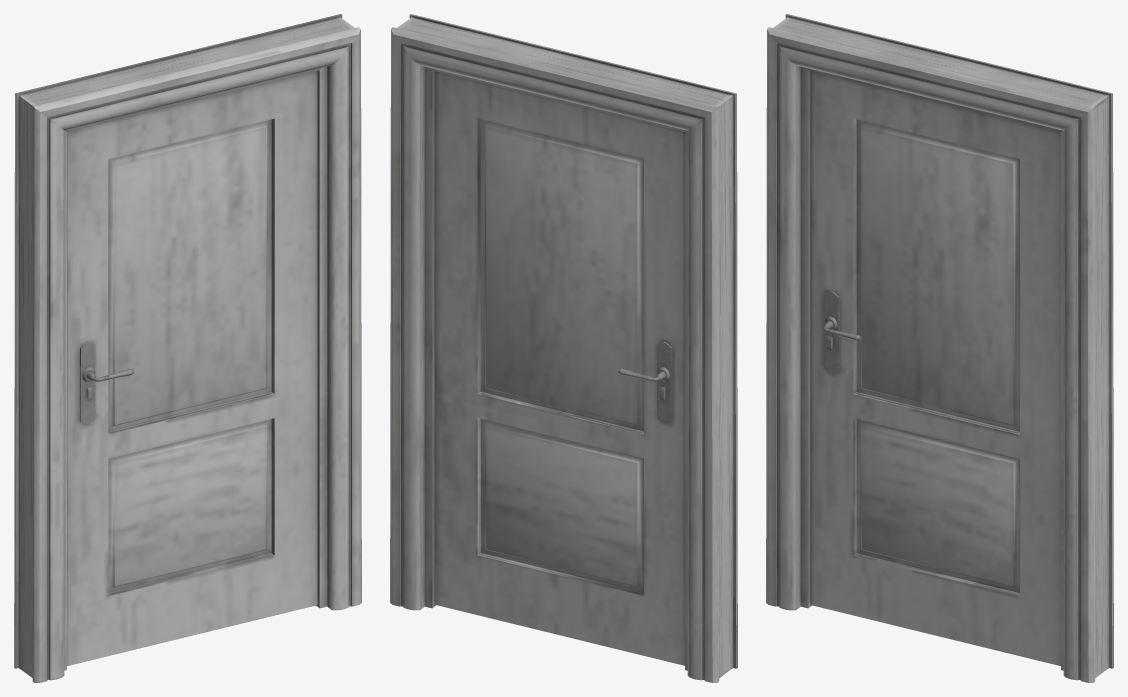
Rendered from door3.fbx.
3 renders of one model, left to right at view 1: azimuth 30°, elevation 25°; view 2: azimuth 150°, elevation 25°; view 3: azimuth 330°, elevation 25°, orthographic.
Parts seen in each view (by area): view 1: Door_Sheet001.001, Cube.005; view 2: Door_Sheet001.001, Cube.005; view 3: Door_Sheet001.001, Cube.005.
Part boxes in pixels (x1,y1,x2,y2): Door_Sheet001.001: (67,71,317,665); Cube.005: (14,14,361,682); Door_Sheet001.001: (434,71,684,665); Cube.005: (390,14,737,682); Door_Sheet001.001: (810,71,1060,665); Cube.005: (766,14,1113,682).
Bounding box in the file's own units: 2.46 × 4.13 × 0.3581.
Materials: 1 (1 with a texture image).
